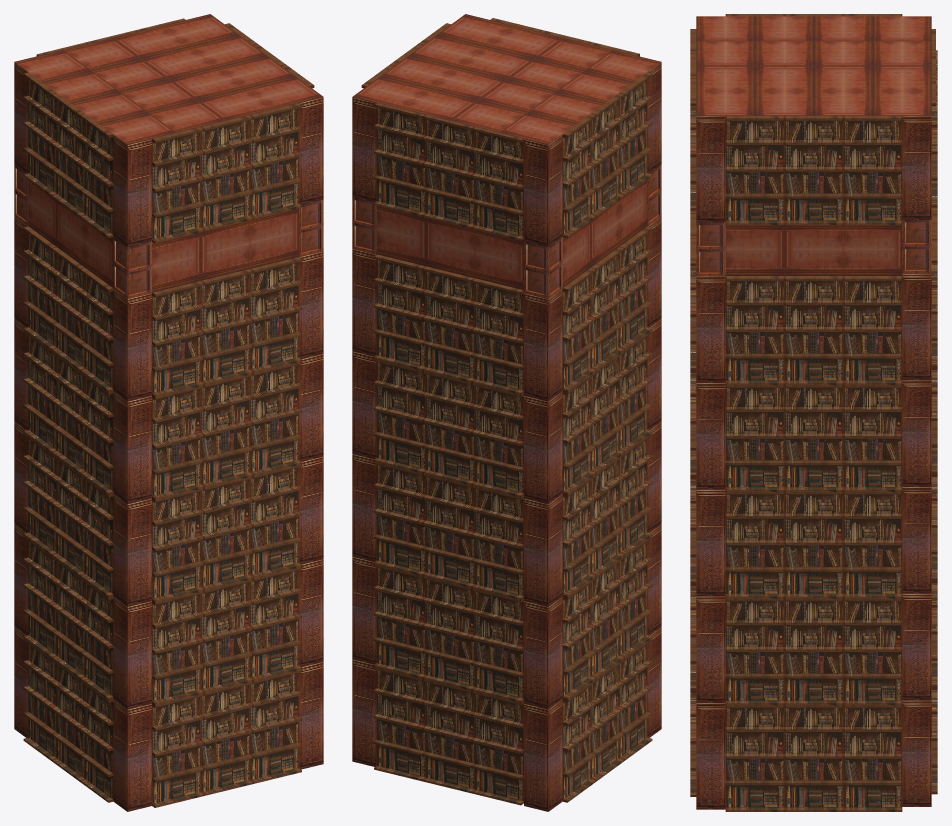
The model's file is env_book_pillar_01.FBX.
The picture shows the model from 3 angles, left to right: view 1: azimuth 30°, elevation 25°; view 2: azimuth 150°, elevation 25°; view 3: azimuth 270°, elevation 25°; orthographic projection. The views are drawn at different scales.
Parts seen in each view (by area): view 1: env_book_pillar_01; view 2: env_book_pillar_01; view 3: env_book_pillar_01.
Part boxes in pixels (x1,y1,x2,y2): env_book_pillar_01: (14, 14, 323, 811); env_book_pillar_01: (352, 14, 661, 811); env_book_pillar_01: (690, 14, 937, 811).
Bounding box in the file's own units: 420 × 1300 × 420.
